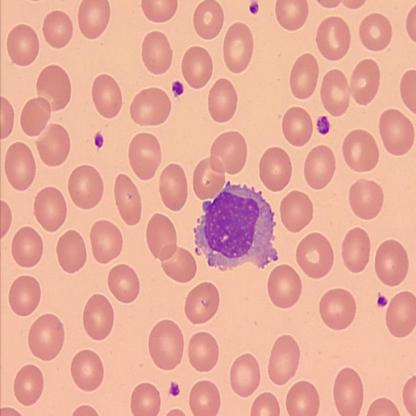Atypical lymphocyte: (191, 177, 280, 275)
